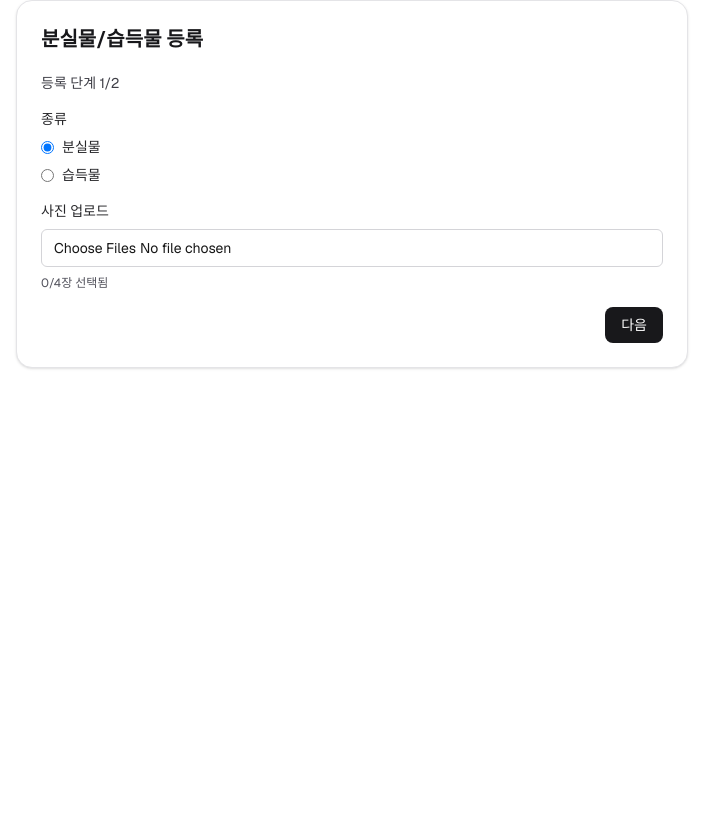
PostCreateForm › moves from step 1 to step 2
Expected: the text "등록 단계 1/2" is shown, 41,74 -> 120,92
Step 1. Click the radio button labelled "습득물" → (48, 175), box 41,168 -> 54,182
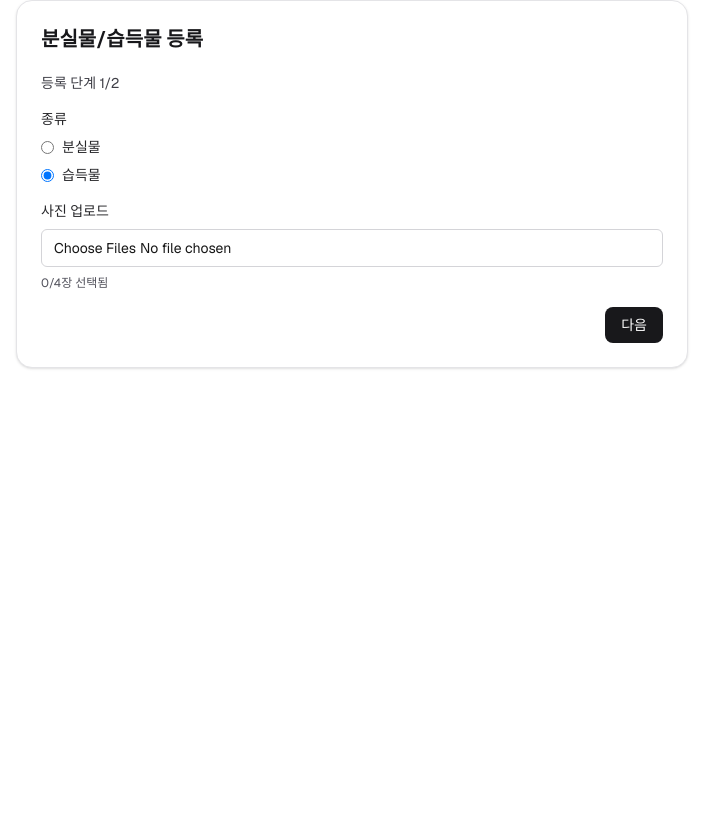
Step 2. Click the button "다음" → (634, 325), box 605,307 -> 663,343
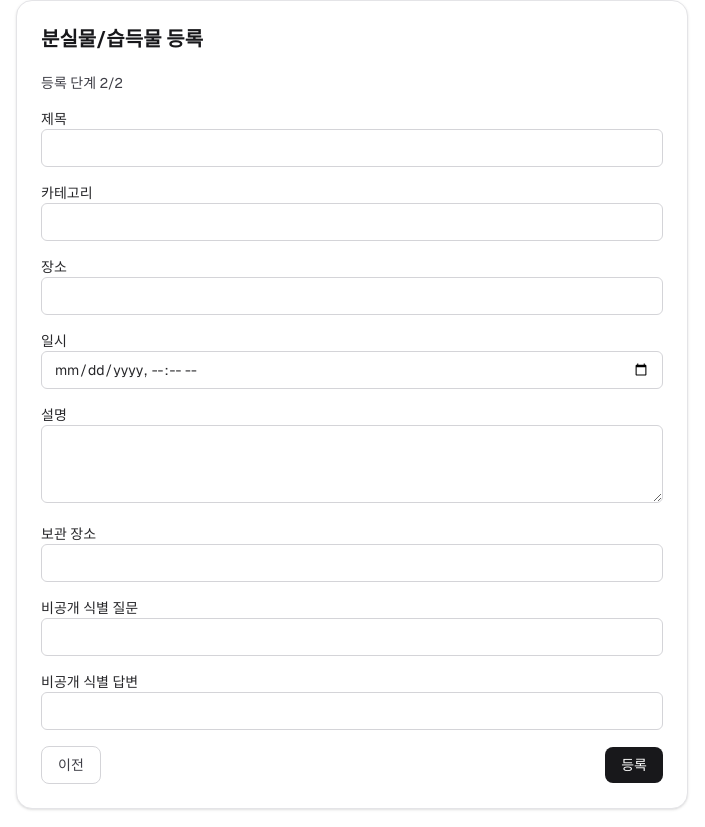
Result: the text "등록 단계 2/2" is shown at 41,74 -> 123,92
Result: the field labelled "제목" is shown at 41,129 -> 663,167
